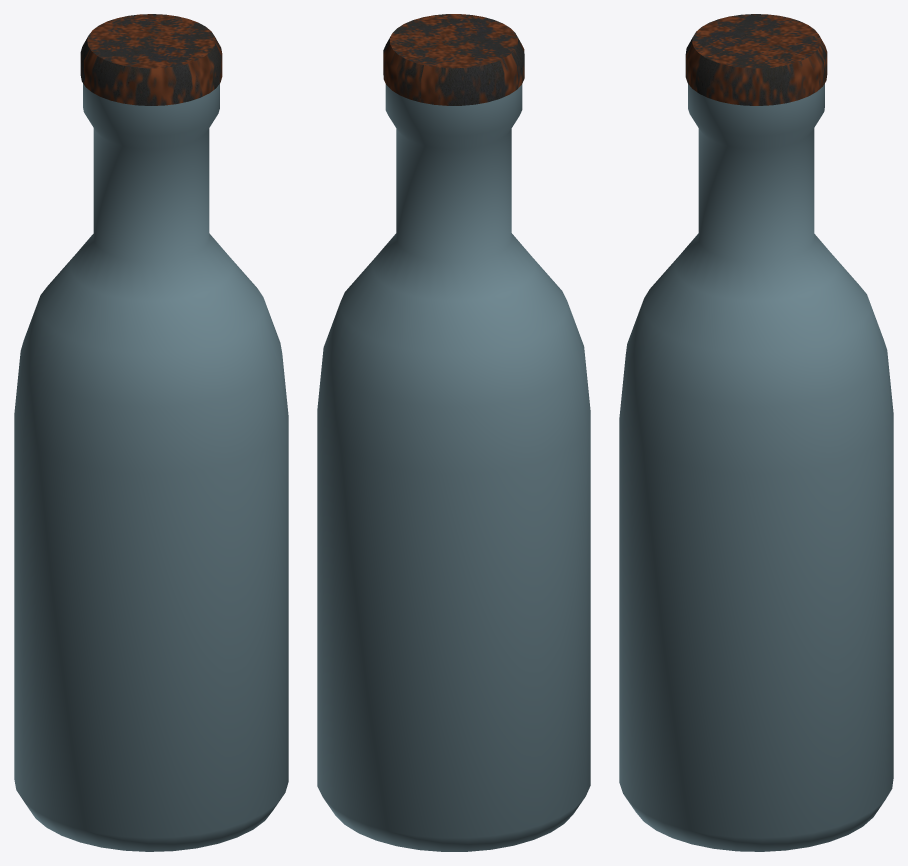
File: SM_Bottle_0f1225d245.fbx
3 renders of one model, left to right at view 1: azimuth 30°, elevation 25°; view 2: azimuth 150°, elevation 25°; view 3: azimuth 270°, elevation 25°, orthographic.
Parts seen in each view (by area): view 1: SM_Bottle_0f1225d245; view 2: SM_Bottle_0f1225d245; view 3: SM_Bottle_0f1225d245.
Boxes of the visible parts, <box> form: SM_Bottle_0f1225d245: <box>14,14,288,851</box>; SM_Bottle_0f1225d245: <box>317,14,590,851</box>; SM_Bottle_0f1225d245: <box>619,14,893,851</box>.
Size of what is drawn, in the model's own units: 12.79 by 12.79 by 39.4.
2 materials, 1 textured.
